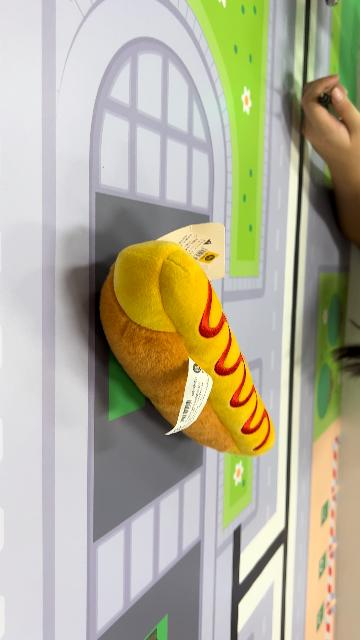hotdog: (99, 239, 277, 459)
